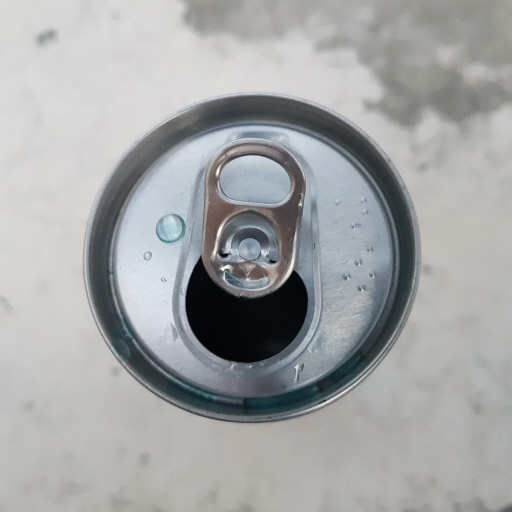Metal_0: (81, 88, 424, 428)
